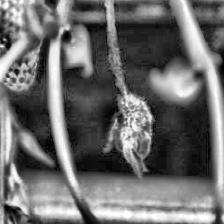Gray Mold: (102, 77, 153, 180)
